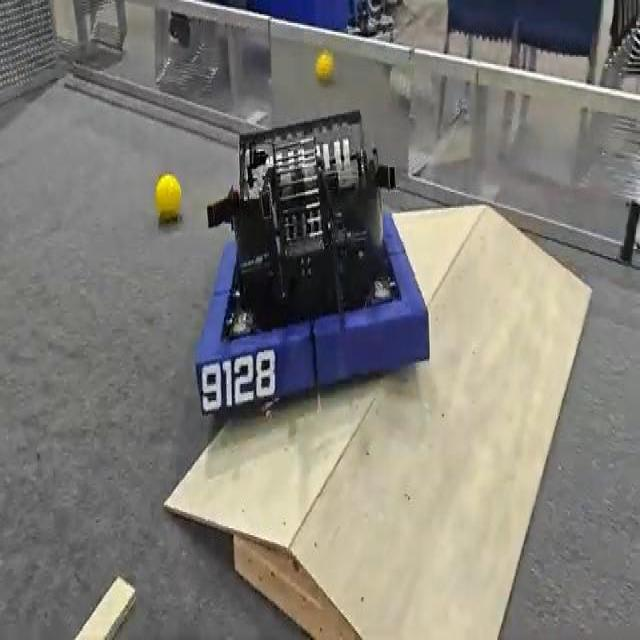Fuel: (155, 174, 181, 220), (155, 174, 181, 219), (315, 51, 334, 82), (315, 50, 333, 82)
